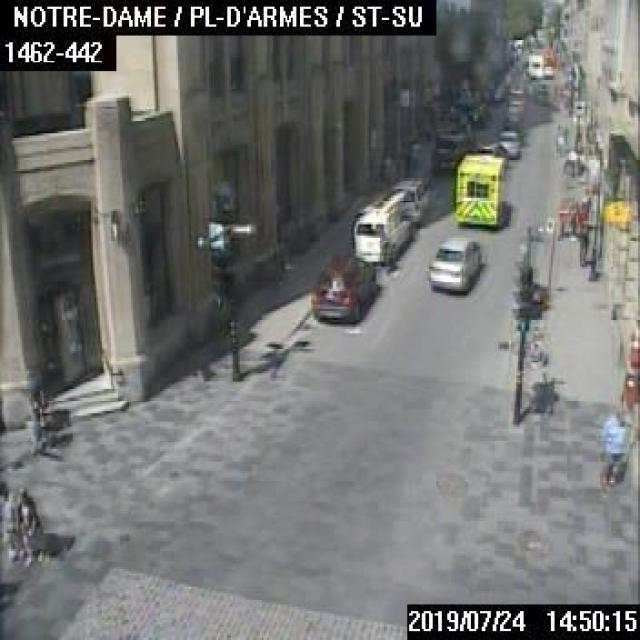pedestrian: (598, 406, 638, 496), (0, 479, 20, 561), (18, 486, 39, 563)
vehicle: (350, 192, 414, 266), (308, 251, 374, 322), (454, 152, 504, 225), (427, 237, 480, 291), (389, 175, 429, 226), (430, 130, 464, 176), (522, 49, 551, 80), (498, 129, 520, 158)
